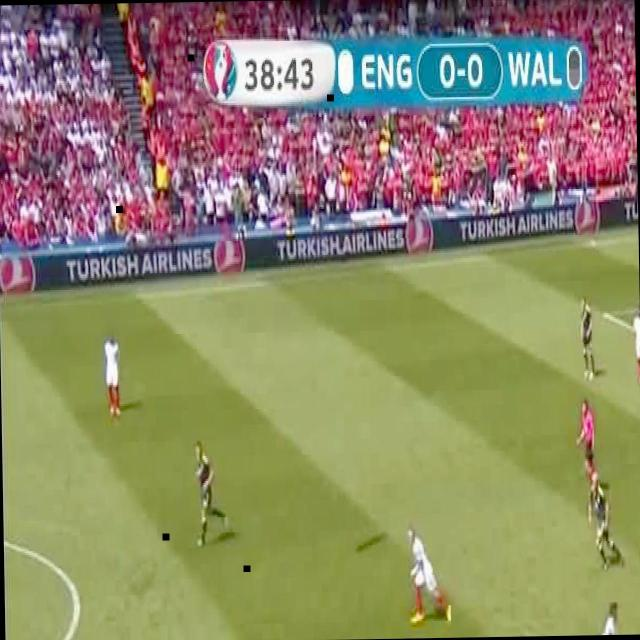player-white: (405, 524, 451, 624), (194, 442, 226, 548), (587, 476, 623, 570), (578, 402, 599, 492), (102, 334, 121, 418), (579, 296, 595, 378), (586, 600, 620, 636), (632, 303, 640, 385)
